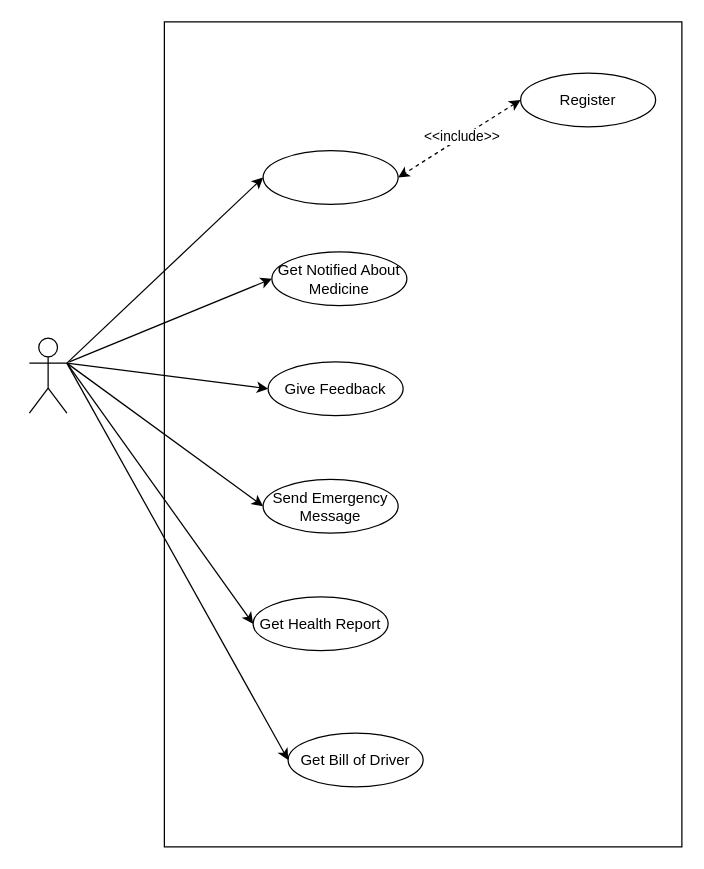
The diagram is 704 pixels wide and 869 high, and some of its shapes have lost their labels. The box of each missing label's shape, as (x1, y1, x2, y2) in pixels:
Login: (262, 149, 398, 204)
Srudent: (28, 337, 67, 413)
